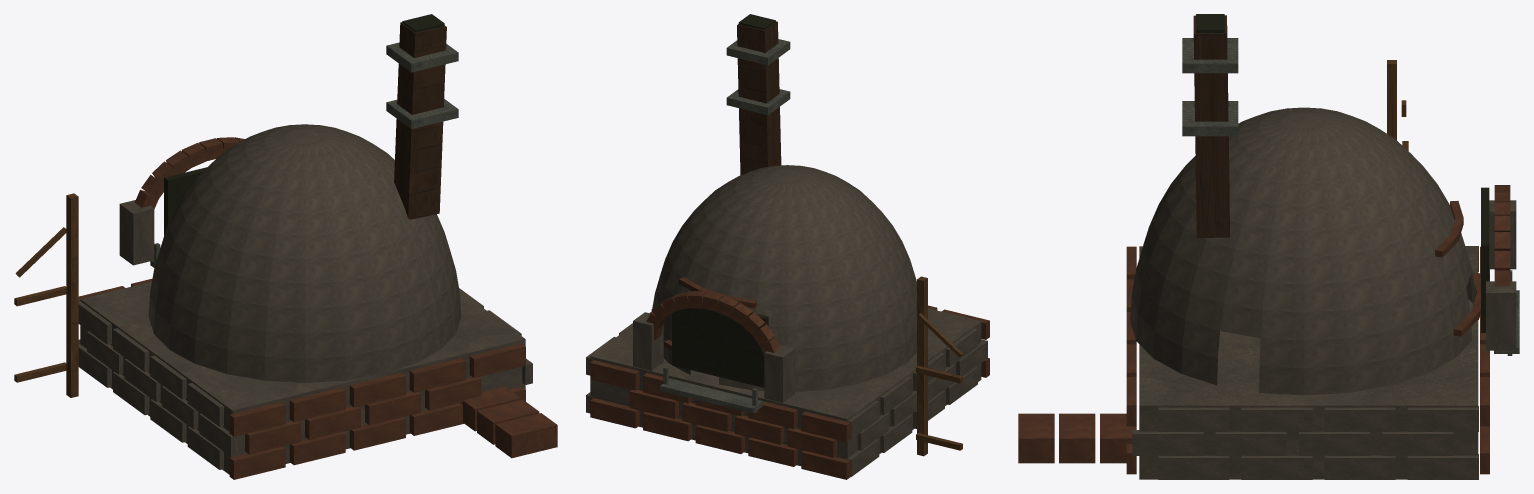
The model's file is village_bakery.glb.
3 renders of one model, left to right at view 1: azimuth 30°, elevation 25°; view 2: azimuth 150°, elevation 25°; view 3: azimuth 270°, elevation 25°, orthographic. The views are drawn at different scales.
Visible parts, largest first — view 1: broken_fieldstone, firebrick_and_clay, dark_timber_and_frame, oak_planks_and_supports, cold_galvanized_metal, kiln_soot_and_embers; view 2: broken_fieldstone, firebrick_and_clay, kiln_soot_and_embers, dark_timber_and_frame, cold_galvanized_metal, oak_planks_and_supports; view 3: broken_fieldstone, firebrick_and_clay, dark_timber_and_frame, cold_galvanized_metal, kiln_soot_and_embers, oak_planks_and_supports.
Part boxes in pixels (x1,y1,x2,y2): broken_fieldstone: [78, 124, 532, 474]; firebrick_and_clay: [78, 137, 557, 479]; dark_timber_and_frame: [394, 22, 446, 219]; oak_planks_and_supports: [14, 193, 78, 397]; cold_galvanized_metal: [150, 42, 458, 267]; kiln_soot_and_embers: [164, 14, 444, 235]; broken_fieldstone: [586, 165, 987, 476]; firebrick_and_clay: [590, 277, 989, 479]; kiln_soot_and_embers: [672, 14, 775, 387]; dark_timber_and_frame: [737, 21, 781, 175]; cold_galvanized_metal: [660, 39, 790, 413]; oak_planks_and_supports: [916, 276, 962, 456]; broken_fieldstone: [1130, 107, 1516, 479]; firebrick_and_clay: [1018, 185, 1510, 474]; dark_timber_and_frame: [1193, 15, 1229, 237]; cold_galvanized_metal: [1182, 38, 1519, 355]; kiln_soot_and_embers: [1196, 14, 1489, 332]; oak_planks_and_supports: [1387, 60, 1408, 150].
Size of the model in its own units: 3.35 by 3.06 by 3.32.
7 materials, 7 textured.
